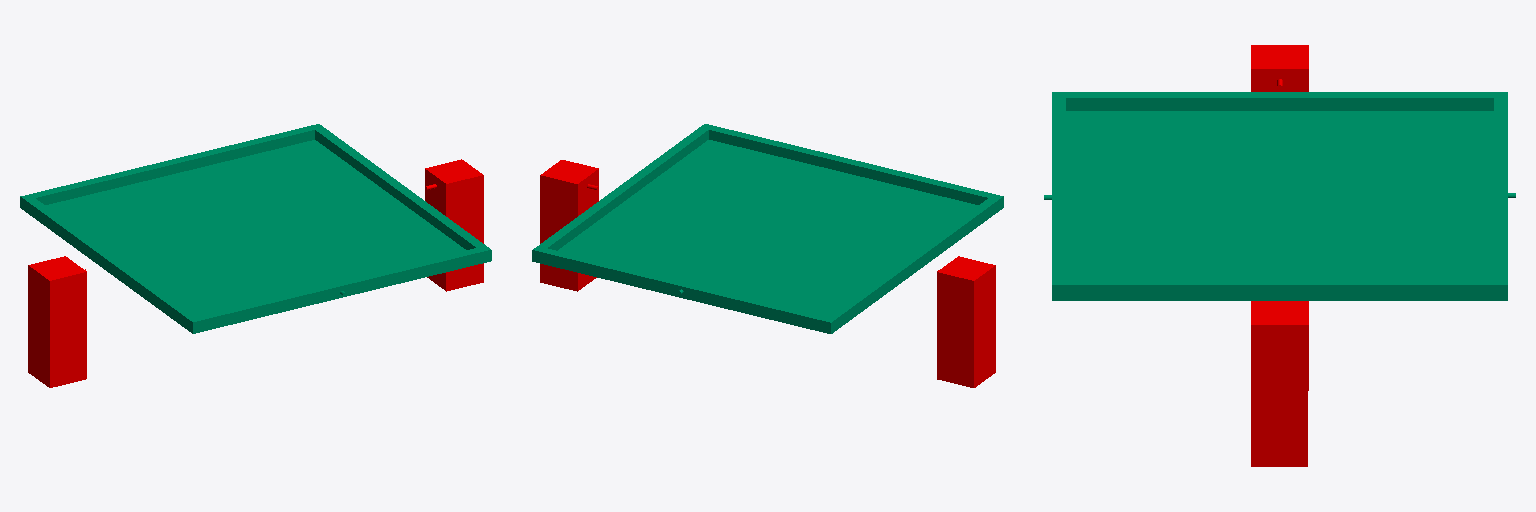
URDF robot description (Labyrinth):
<?xml version="1.0" encoding="UTF-8"?>
<robot name="Labyrinth">
  <link name="Support">
    <visual>
      <origin xyz="0. 0. 0." rpy="1.57 0. 0. "/>
      <geometry>
        <mesh filename="meshes/Support.STL" scale="0.001 0.001 0.001"/>
      </geometry>
      <material name="Red">
          <color rgba="1.0 0.0 0.0 1.0"/> <!-- RGB + Alpha (transparency) -->
      </material>
    </visual>
  </link>  

  <link name="OuterDOF">
    <visual>
      <origin xyz="0.0 0.0 -0.1" rpy="1.57 0. 0. "/>
      <geometry>
        <mesh filename="meshes/OuterDOF.STL" scale="0.001 0.001 0.001"/>
      </geometry>
    </visual>
  </link> 

  <link name="InnerDOF">
    <visual>
      <origin xyz="0.0 0.0 -0.1" rpy="1.57 0. 0. "/>
      <geometry>
        <mesh filename="meshes/InnerDOF.STL" scale="0.001 0.001 0.001"/>
      </geometry>
    </visual>
  </link> 

  <link name="InnerDOFWalls">
    <visual>
      <origin xyz="0.0 0.0 -0.1" rpy="1.57 0. 0. "/>
      <geometry>
        <mesh filename="meshes/generated_maze_01.stl" scale="0.001 0.001 0.001"/>
      </geometry>
      <material name="Black">
          <color rgba="0.0 0.0 0.0 1.0"/> <!-- RGB + Alpha (transparency) -->
      </material>
    </visual>
  </link> 

  <joint name="InnerDOF_RevoluteJoint" type="continuous">
    <origin xyz="0.0 0.0 0.0" rpy="0.0 0. 0."/>
    <parent link="OuterDOF"/>
    <child link="InnerDOF"/>
    <axis xyz="0. 1. 0."/>
    <limit lower="-0.26179" upper="0.26179" effort="100.0" velocity="100.0"/>
  </joint>

  <joint name="OuterDOF_RevoluteJoint" type="continuous">
    <origin xyz="0.0 0.0 0.1" rpy="0. 0. 0."/>
    <parent link="Support"/>
    <child link="OuterDOF"/>
    <axis xyz="1. 0. 0."/>
    <limit lower="-0.26179" upper="0.26179" effort="100.0" velocity="100.0"/>
  </joint>

  <joint name="FixedWallJoint" type="fixed">
    <origin xyz="0.0 0.0 0.0" rpy="0. 0. 0."/>
    <parent link="InnerDOF"/>
    <child link="InnerDOFWalls"/>
  </joint>
</robot>

--- Facts derived from the render (not from the file) ---
3 views of the same robot in one strip: view 1: azimuth 30°, elevation 25°; view 2: azimuth 150°, elevation 25°; view 3: azimuth 270°, elevation 25° (orthographic).
Model Labyrinth with 4 links and 3 joints (2 continuous, 1 fixed), rooted at Support, posed all joints at 0.
Links seen in each view (by area): view 1: InnerDOF, Support; view 2: InnerDOF, Support; view 3: InnerDOF, Support.
Boxes of the visible links, x1,y1,x2,y2 form: InnerDOF: (20, 124, 491, 333); Support: (28, 159, 483, 387); InnerDOF: (532, 124, 1003, 333); Support: (540, 160, 995, 387); InnerDOF: (1044, 92, 1515, 300); Support: (1251, 45, 1308, 466).
Size in the robot's own frame: 0.465 by 0.33 by 0.11 metres.
Meshes: 4 distinct files referenced, 2 mesh visuals loaded (2 binary STL); not drawn: 2 (reference not matched to a file when rendering).